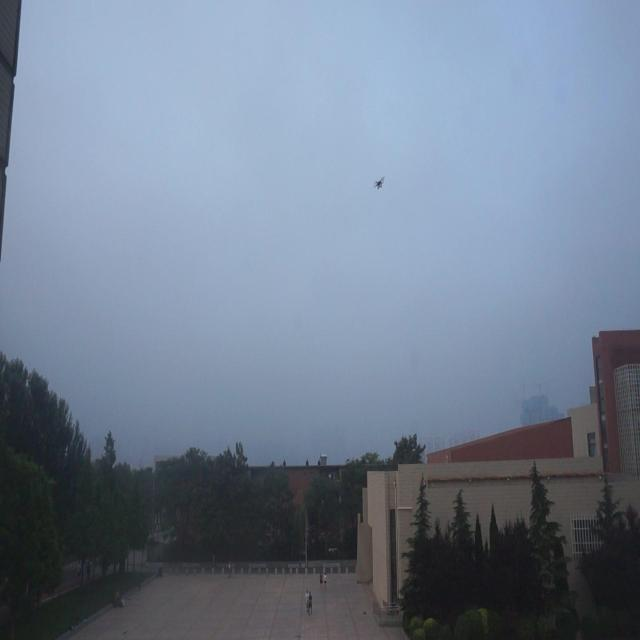drone: (371, 172, 388, 195)
